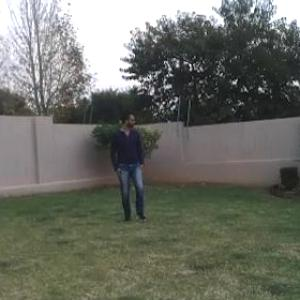follow: (112, 106, 147, 222)
